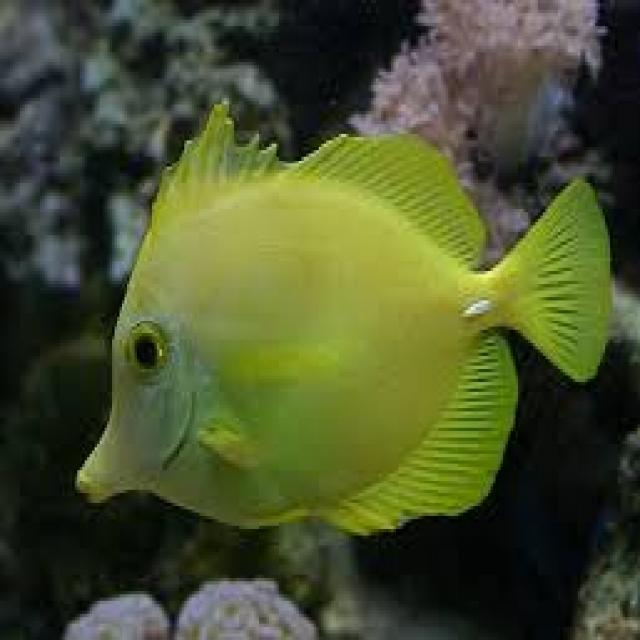YellowTang: (66, 66, 622, 561)
